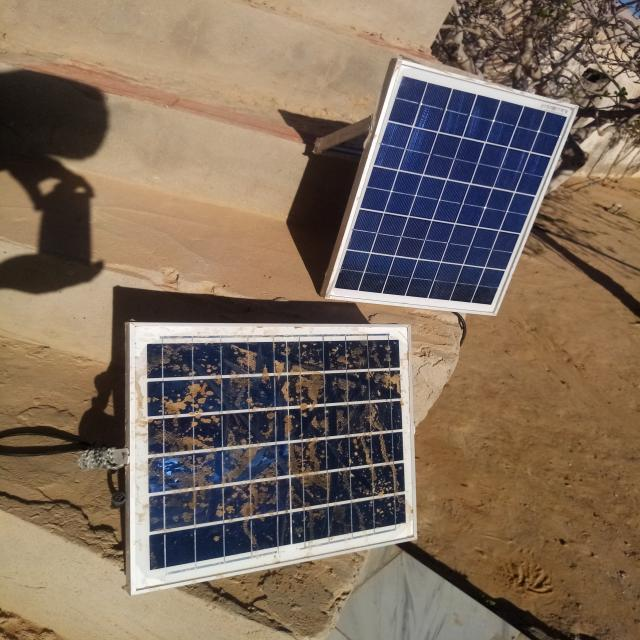faulty: (127, 325, 416, 592)
no faulty: (328, 62, 585, 312)
